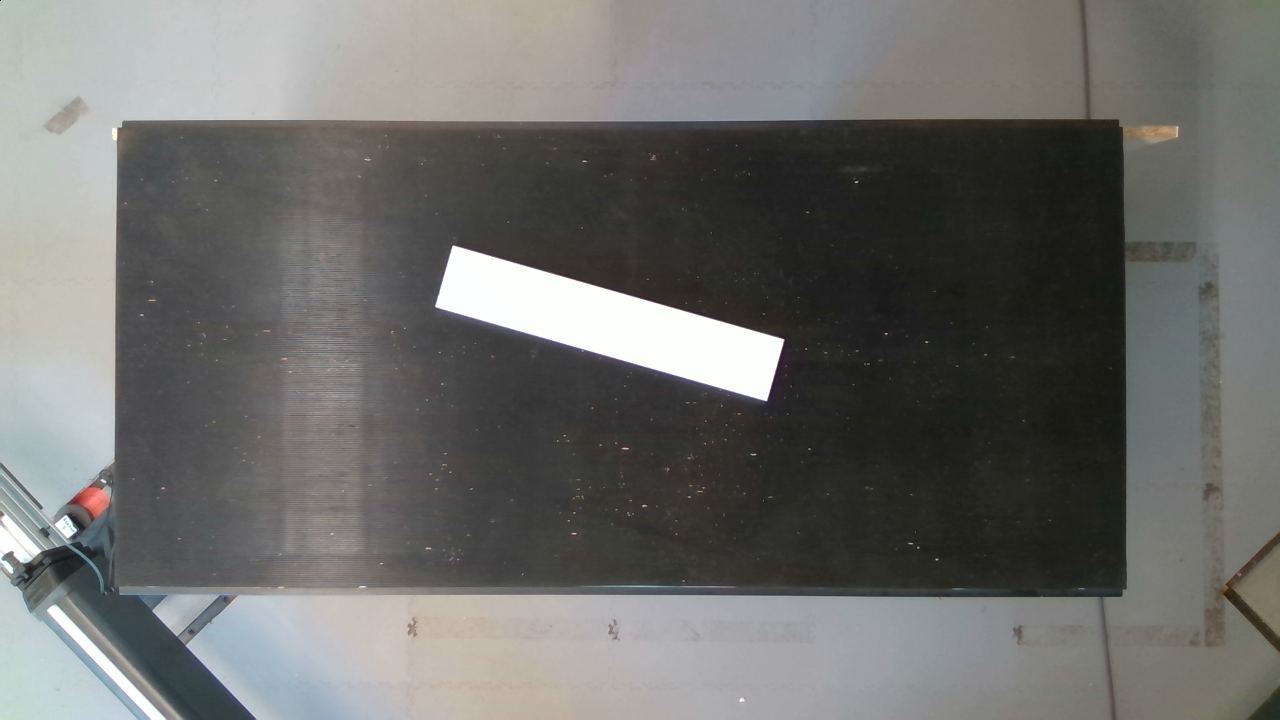part1: (421, 233, 801, 407)
